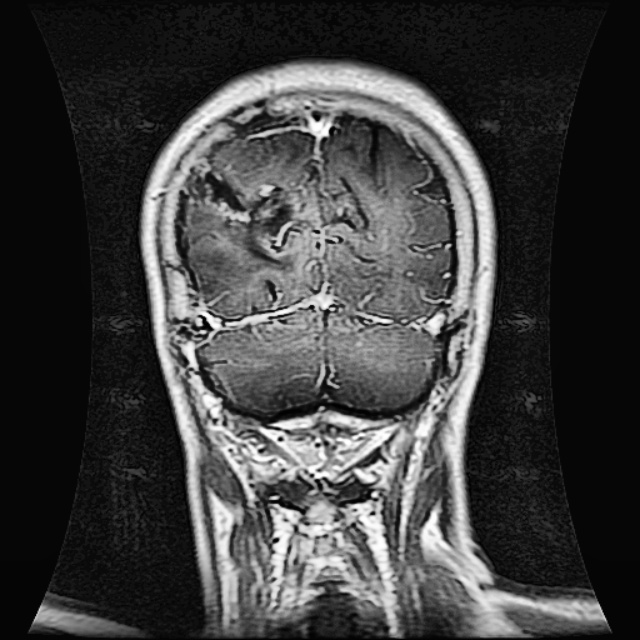Meningioma: (183, 155, 308, 264)
